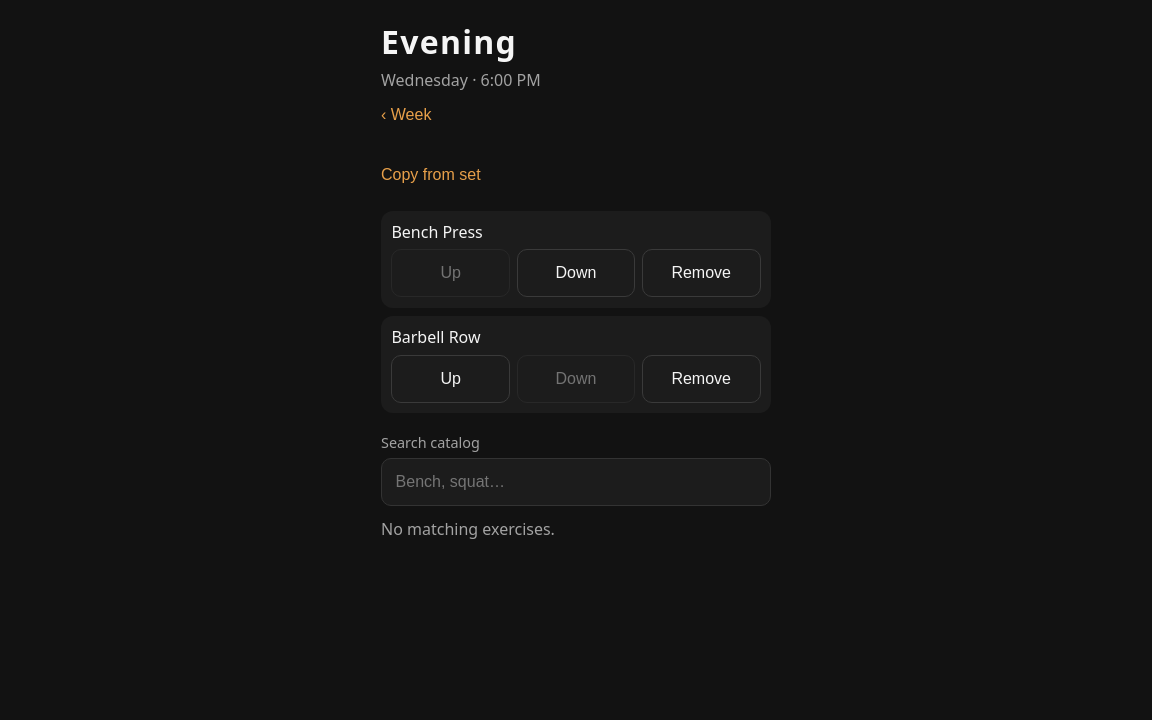
Scenario: SetExerciseEditorPage › copies exercises from a set on another schedule
Click the button "Copy from set".
click(431, 175)  # box [381,151,481,199]
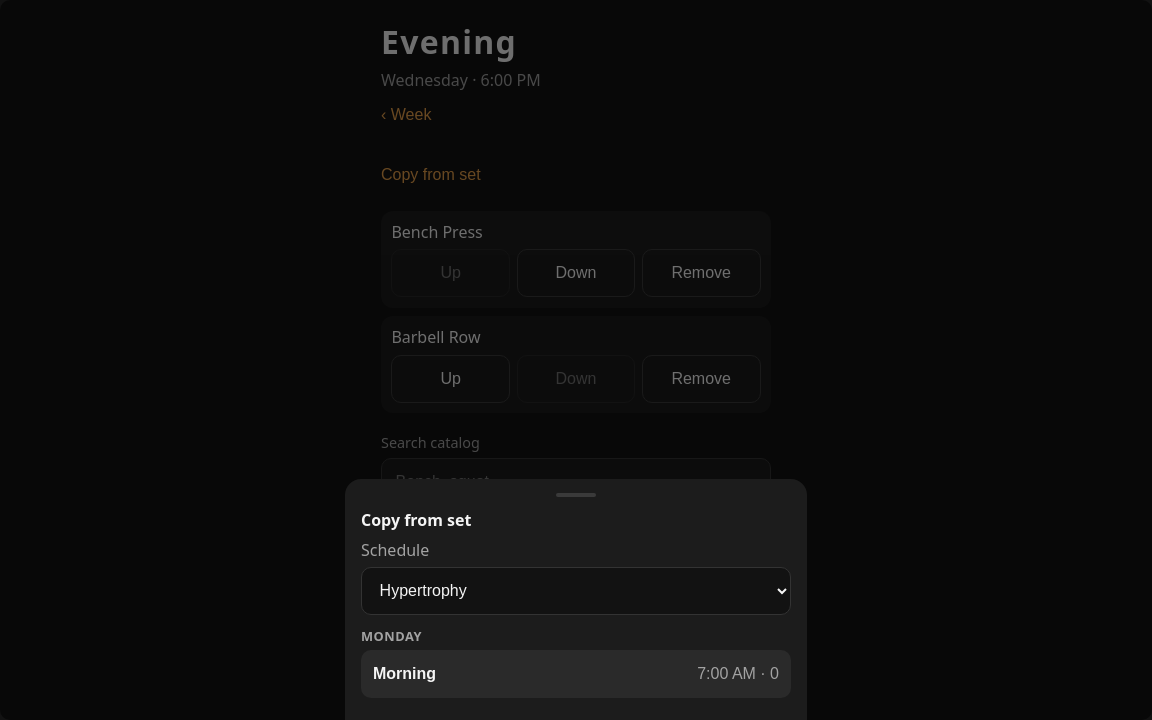
Result: the dropdown labelled "Schedule" shows "Hypertrophy"
Select "Cut" in the dropdown labelled "Schedule" at (576, 591), box [361,567,791,615]
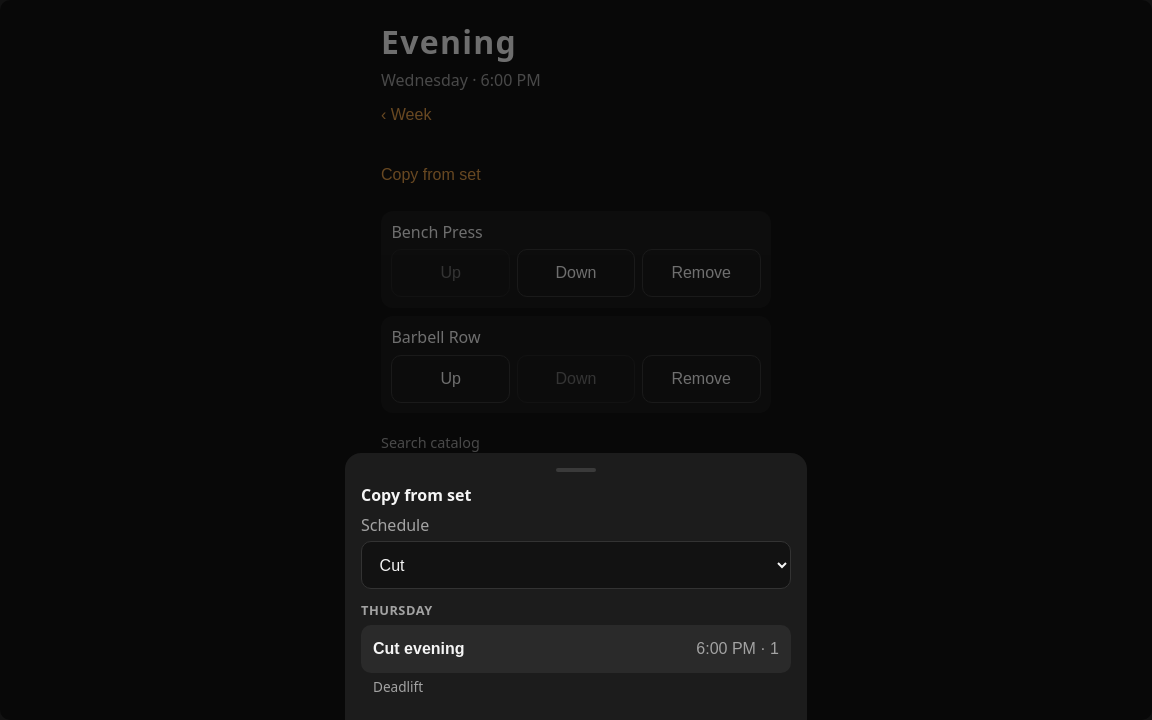
Result: the button "Cut evening 6:00 PM · 1" is shown
Click the button "Cut evening 6:00 PM · 1".
click(419, 648)  # box [361,625,791,673]
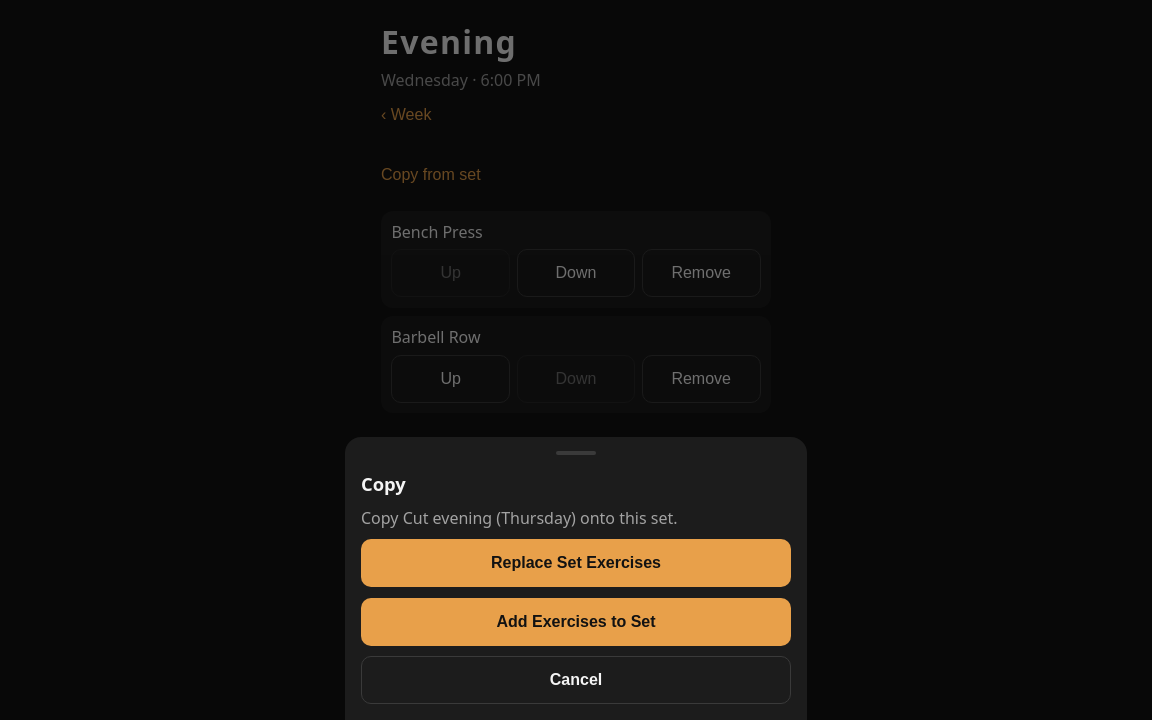
Result: the element with test id "confirm-sheet" is shown
Click the button "Replace Set Exercises".
click(576, 563)  # box [361,539,791,587]
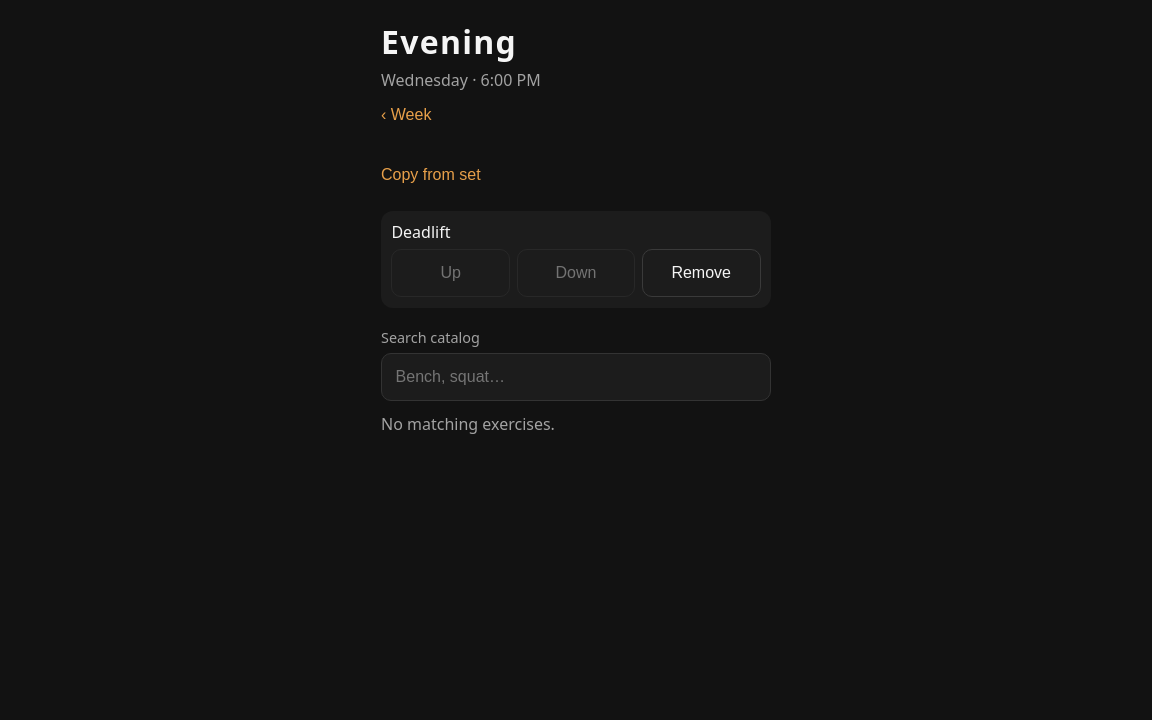
Result: the text "Deadlift" is shown at [391,221,450,243]
